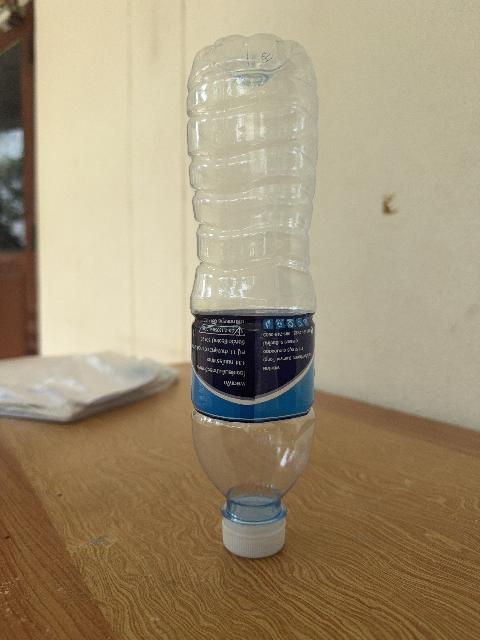bottle: (188, 35, 317, 557)
